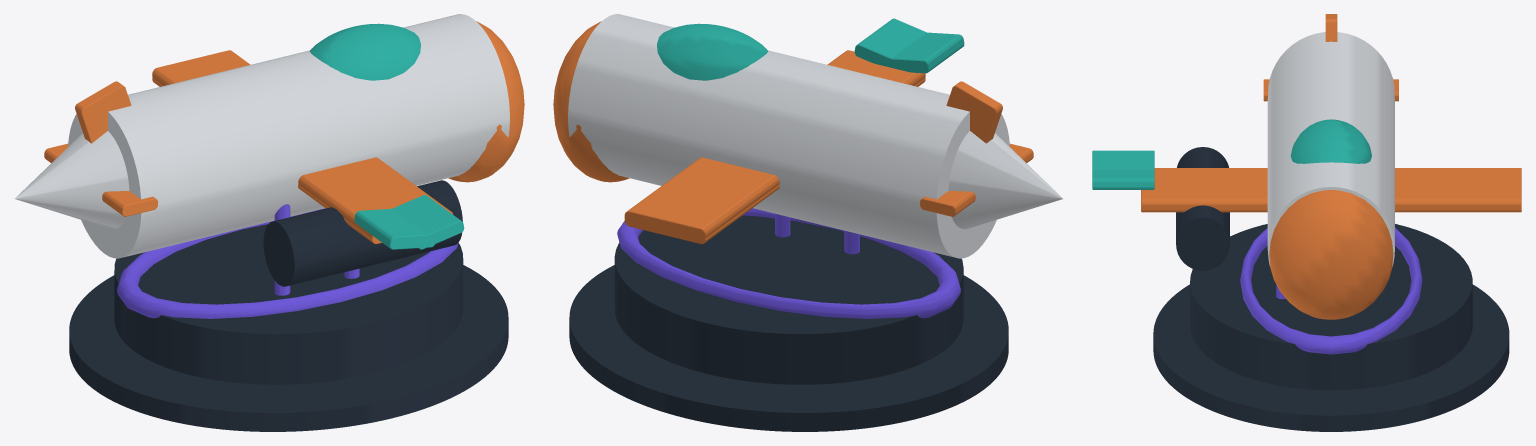
Rendered from 0351_航空航天图鉴_A320客机.glb.
3 views of the same model, side by side, from view 1: azimuth 30°, elevation 25°; view 2: azimuth 150°, elevation 25°; view 3: azimuth 270°, elevation 25° (orthographic). The views are drawn at different scales.
Parts seen in each view (by area): view 1: card_0351; view 2: card_0351; view 3: card_0351.
Boxes of the visible parts, bbox=[...] form: card_0351: bbox=[14, 14, 524, 431]; card_0351: bbox=[553, 14, 1063, 431]; card_0351: bbox=[1092, 14, 1521, 431].
Size of the model in its own units: 1.73 by 1 by 1.5.
